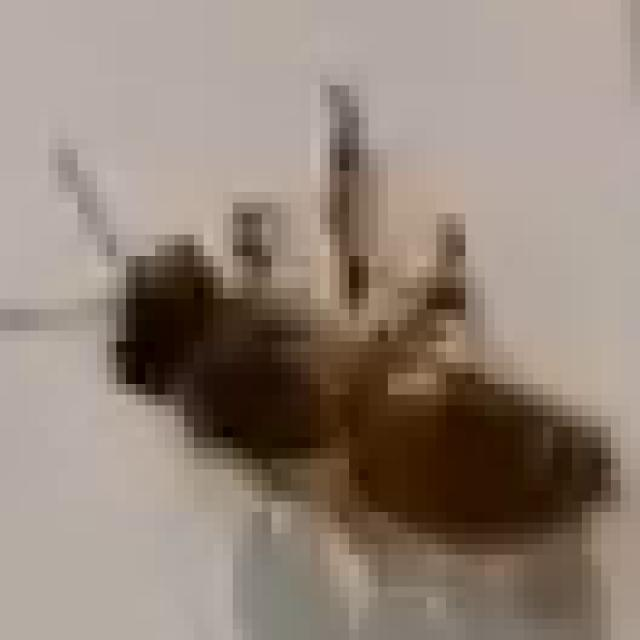honeybee: (22, 135, 640, 555)
